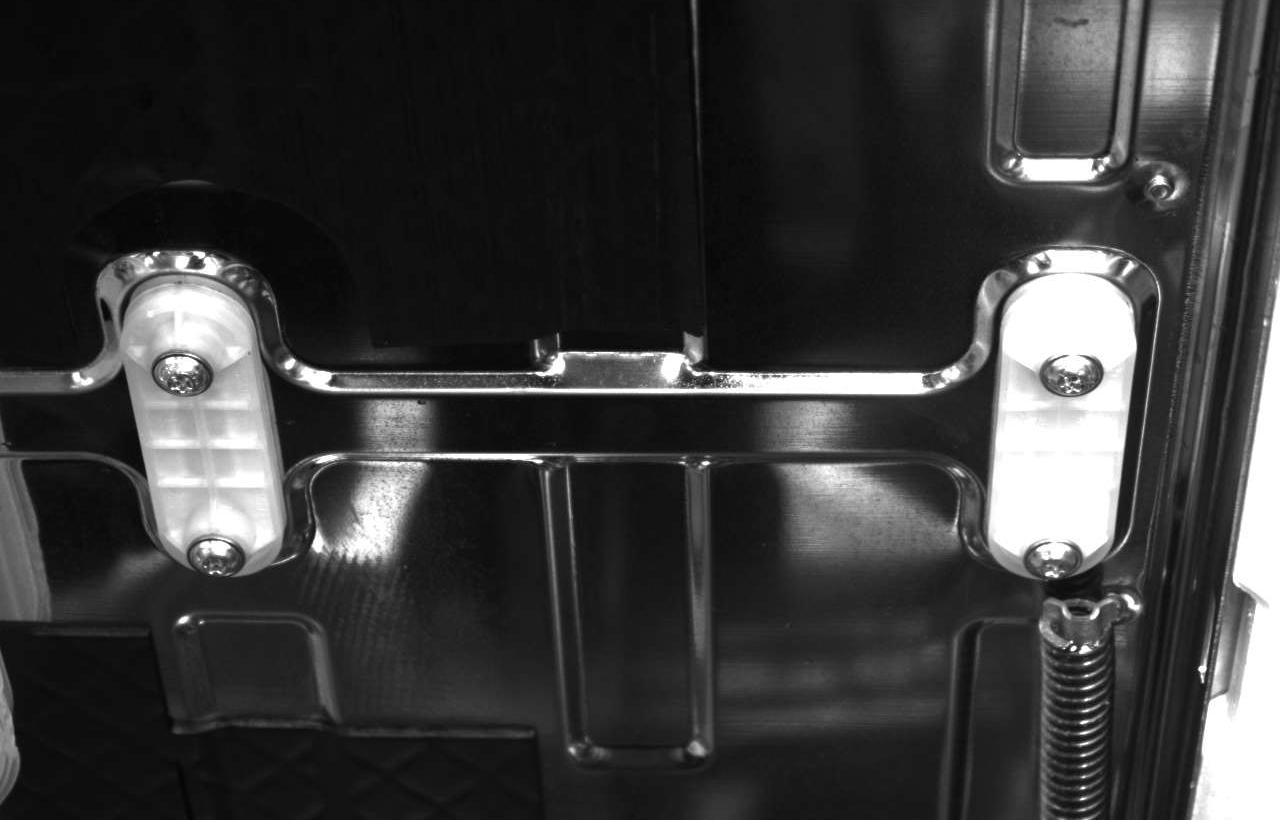vida-ok: (141, 338, 213, 405), (1044, 342, 1111, 409), (183, 525, 249, 584), (1023, 528, 1089, 587)
